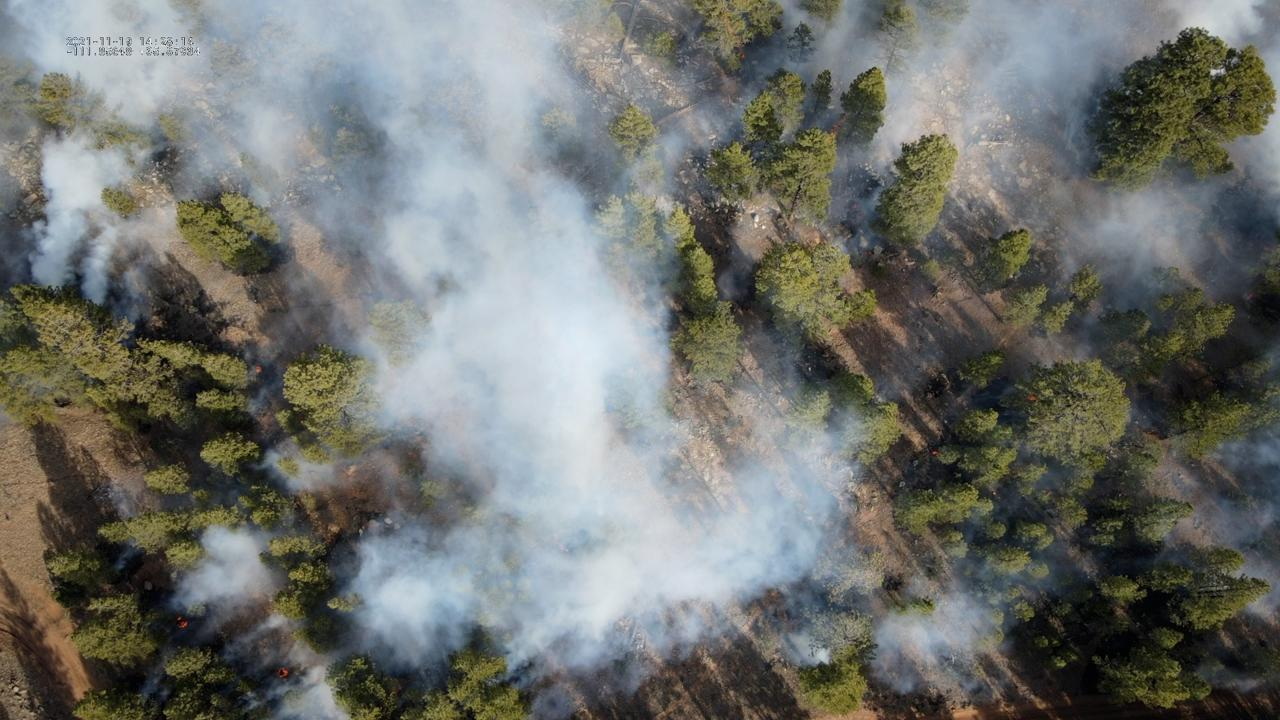fire: (831, 114, 849, 135), (176, 615, 188, 629), (276, 666, 289, 678), (1026, 394, 1036, 402), (255, 364, 262, 375), (740, 52, 747, 59), (932, 450, 939, 456)
smoke: (0, 0, 1280, 720)
